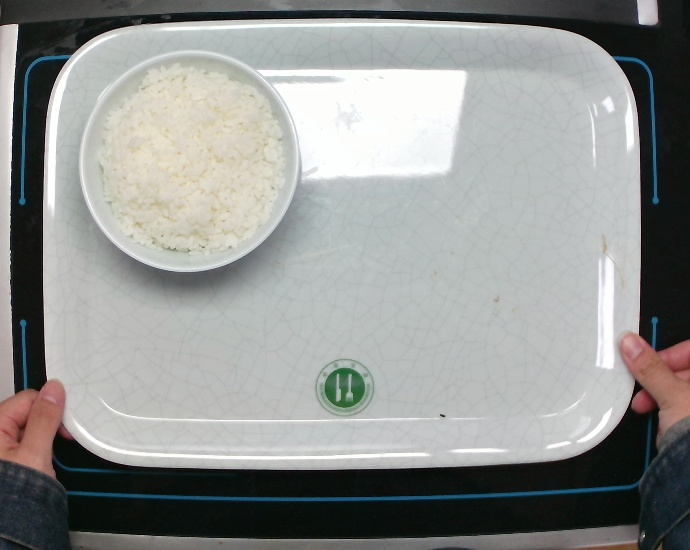JYsf-Fan_Wan: (76, 47, 302, 275)
